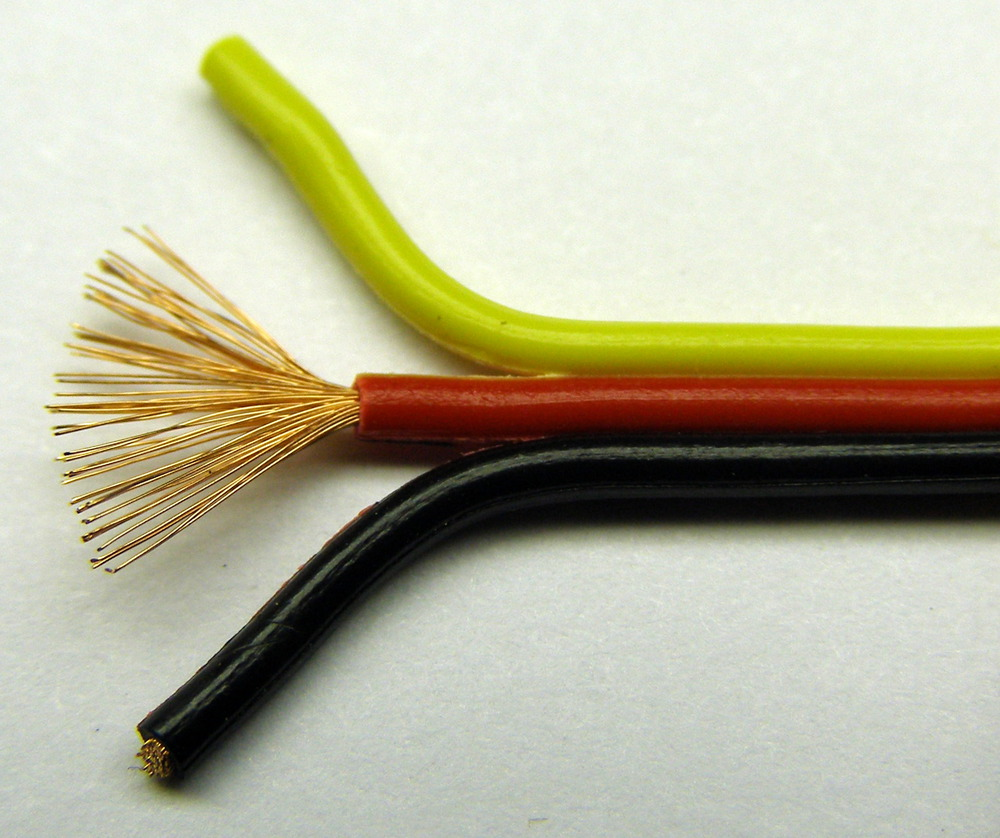Nonrec_Tangler: (31, 14, 951, 788)
